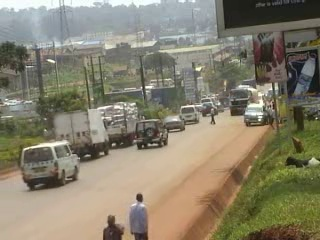Car: (132, 117, 169, 151), (161, 112, 187, 136), (199, 98, 219, 117), (211, 99, 224, 112)
